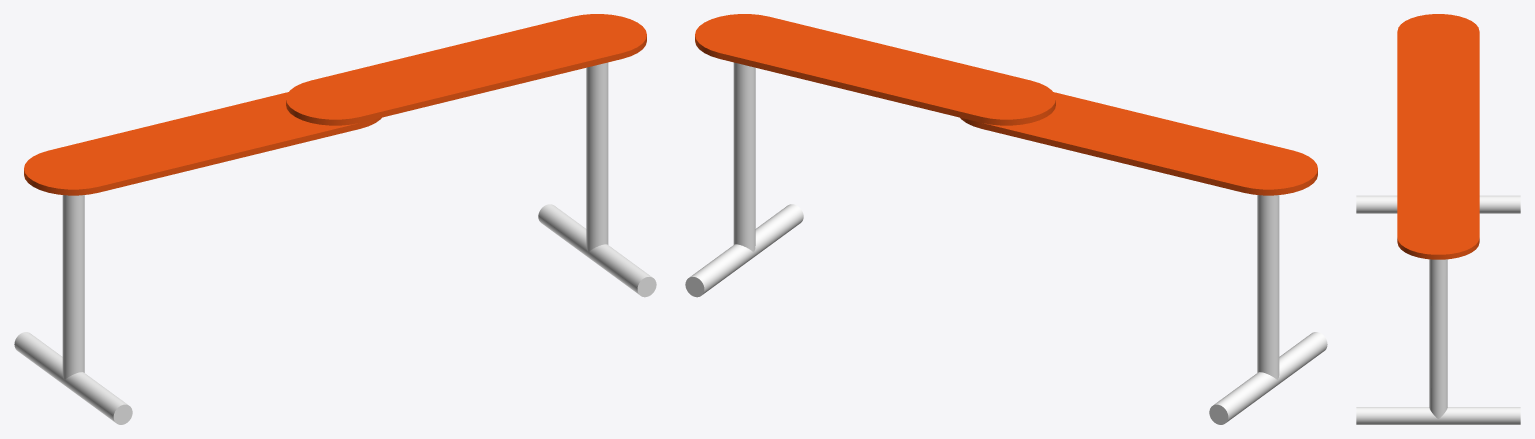
The model's file is Path.dae.
The picture shows the model from 3 angles, left to right: view 1: azimuth 30°, elevation 25°; view 2: azimuth 150°, elevation 25°; view 3: azimuth 270°, elevation 25°; orthographic projection. The views are drawn at different scales.
Visible parts, largest first — view 1: node_74a74a50_99ea_4232_9940_870072a25c05_mesh0, node_74a74a50_99ea_4232_9940_870072a25c05_mesh1; view 2: node_74a74a50_99ea_4232_9940_870072a25c05_mesh0, node_74a74a50_99ea_4232_9940_870072a25c05_mesh1; view 3: node_74a74a50_99ea_4232_9940_870072a25c05_mesh0, node_74a74a50_99ea_4232_9940_870072a25c05_mesh1.
Part boxes in pixels (box(x1,y1,x2,y2)): node_74a74a50_99ea_4232_9940_870072a25c05_mesh0: box(24, 14, 646, 195); node_74a74a50_99ea_4232_9940_870072a25c05_mesh1: box(14, 62, 656, 424); node_74a74a50_99ea_4232_9940_870072a25c05_mesh0: box(695, 14, 1317, 195); node_74a74a50_99ea_4232_9940_870072a25c05_mesh1: box(685, 62, 1327, 424); node_74a74a50_99ea_4232_9940_870072a25c05_mesh0: box(1397, 14, 1479, 259); node_74a74a50_99ea_4232_9940_870072a25c05_mesh1: box(1356, 195, 1520, 424).
Bounding box in the file's own units: 1.06 × 0.3766 × 0.3.
